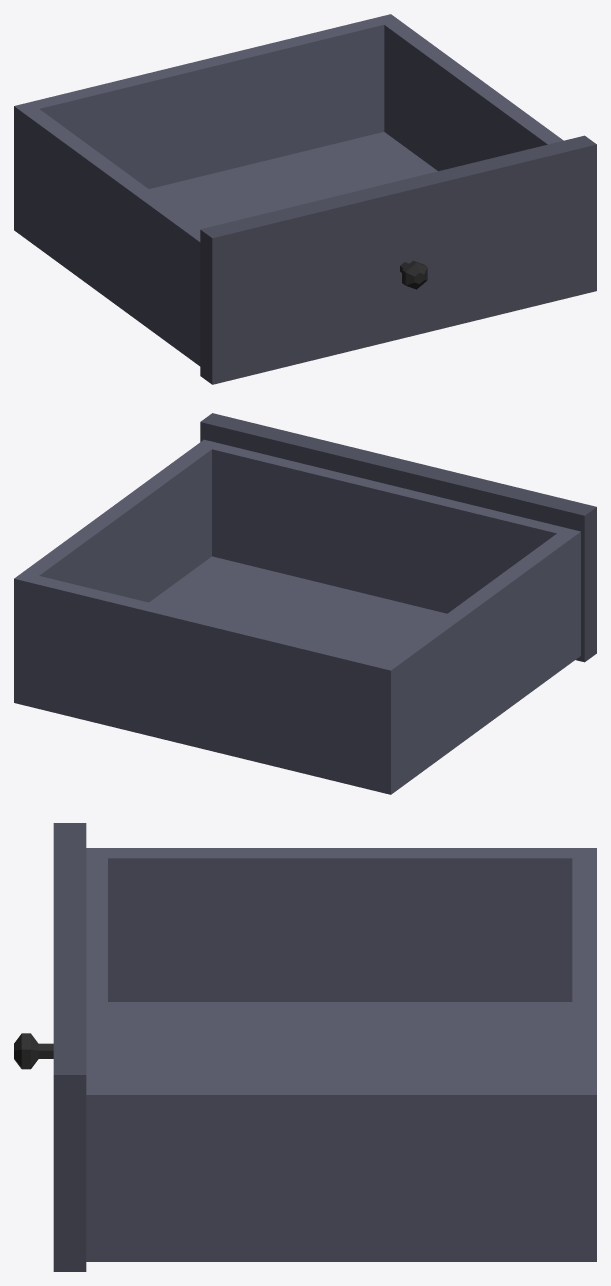
The model's file is BedTable3_C2_02.fbx.
3 renders of one model, top to bottom at view 1: azimuth 30°, elevation 25°; view 2: azimuth 150°, elevation 25°; view 3: azimuth 270°, elevation 25°, orthographic. The views are drawn at different scales.
Parts seen in each view (by area): view 1: BedTable3_C2_02; view 2: BedTable3_C2_02; view 3: BedTable3_C2_02.
Boxes of the visible parts, x1,y1,x2,y2 form: BedTable3_C2_02: (14,14,596,384); BedTable3_C2_02: (14,413,596,794); BedTable3_C2_02: (14,823,596,1271).
Size of the model in its own units: 36.44 by 13.27 by 35.61.
